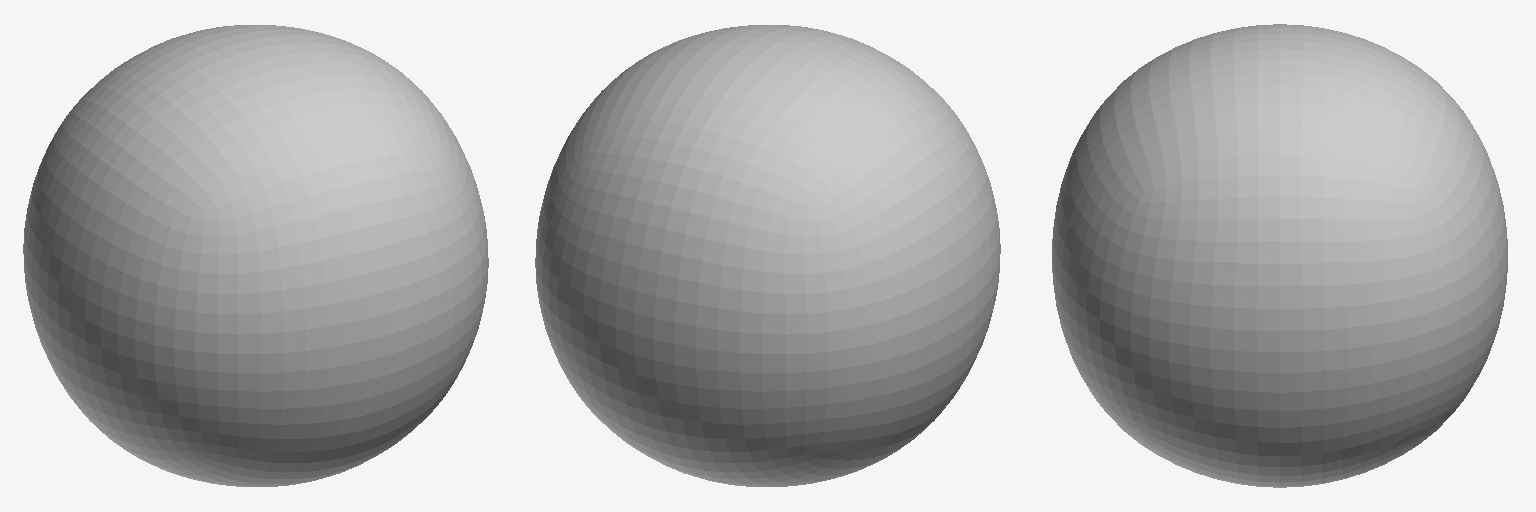
Rendered from eye1.obj.
3 renders of one model, left to right at view 1: azimuth 30°, elevation 25°; view 2: azimuth 150°, elevation 25°; view 3: azimuth 270°, elevation 25°, orthographic.
Parts seen in each view (by area): view 1: eye1_Cube.001; view 2: eye1_Cube.001; view 3: eye1_Cube.001.
Part boxes in pixels (bbox=[...]): eye1_Cube.001: bbox=[23, 25, 488, 486]; eye1_Cube.001: bbox=[535, 25, 1000, 486]; eye1_Cube.001: bbox=[1052, 24, 1507, 487].
Bounding box in the file's own units: 0.6886 × 0.6886 × 0.6886.